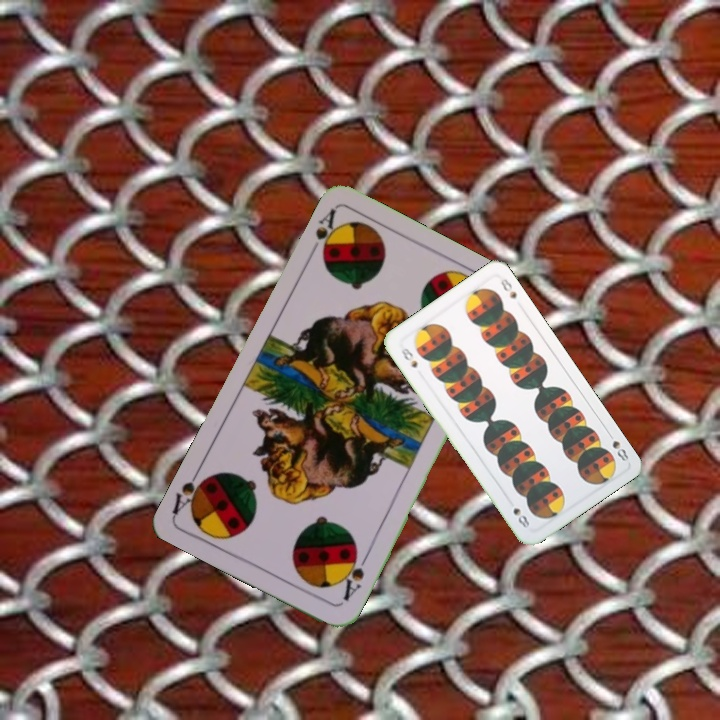S8: (603, 427, 631, 464), (397, 344, 420, 370)
SA: (304, 204, 345, 263), (336, 546, 371, 604)
